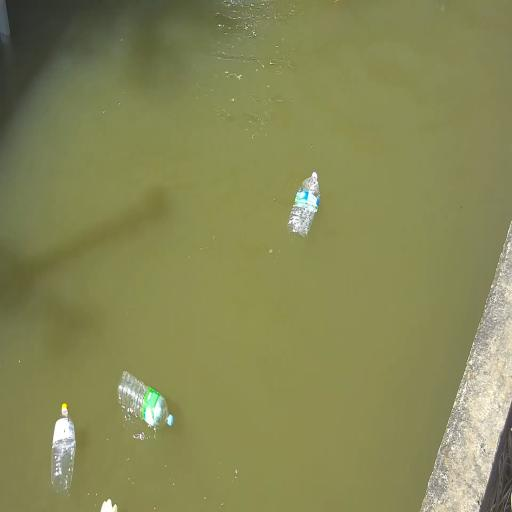plastic: (118, 371, 173, 428), (51, 403, 75, 492), (288, 172, 320, 237), (100, 497, 118, 512)
